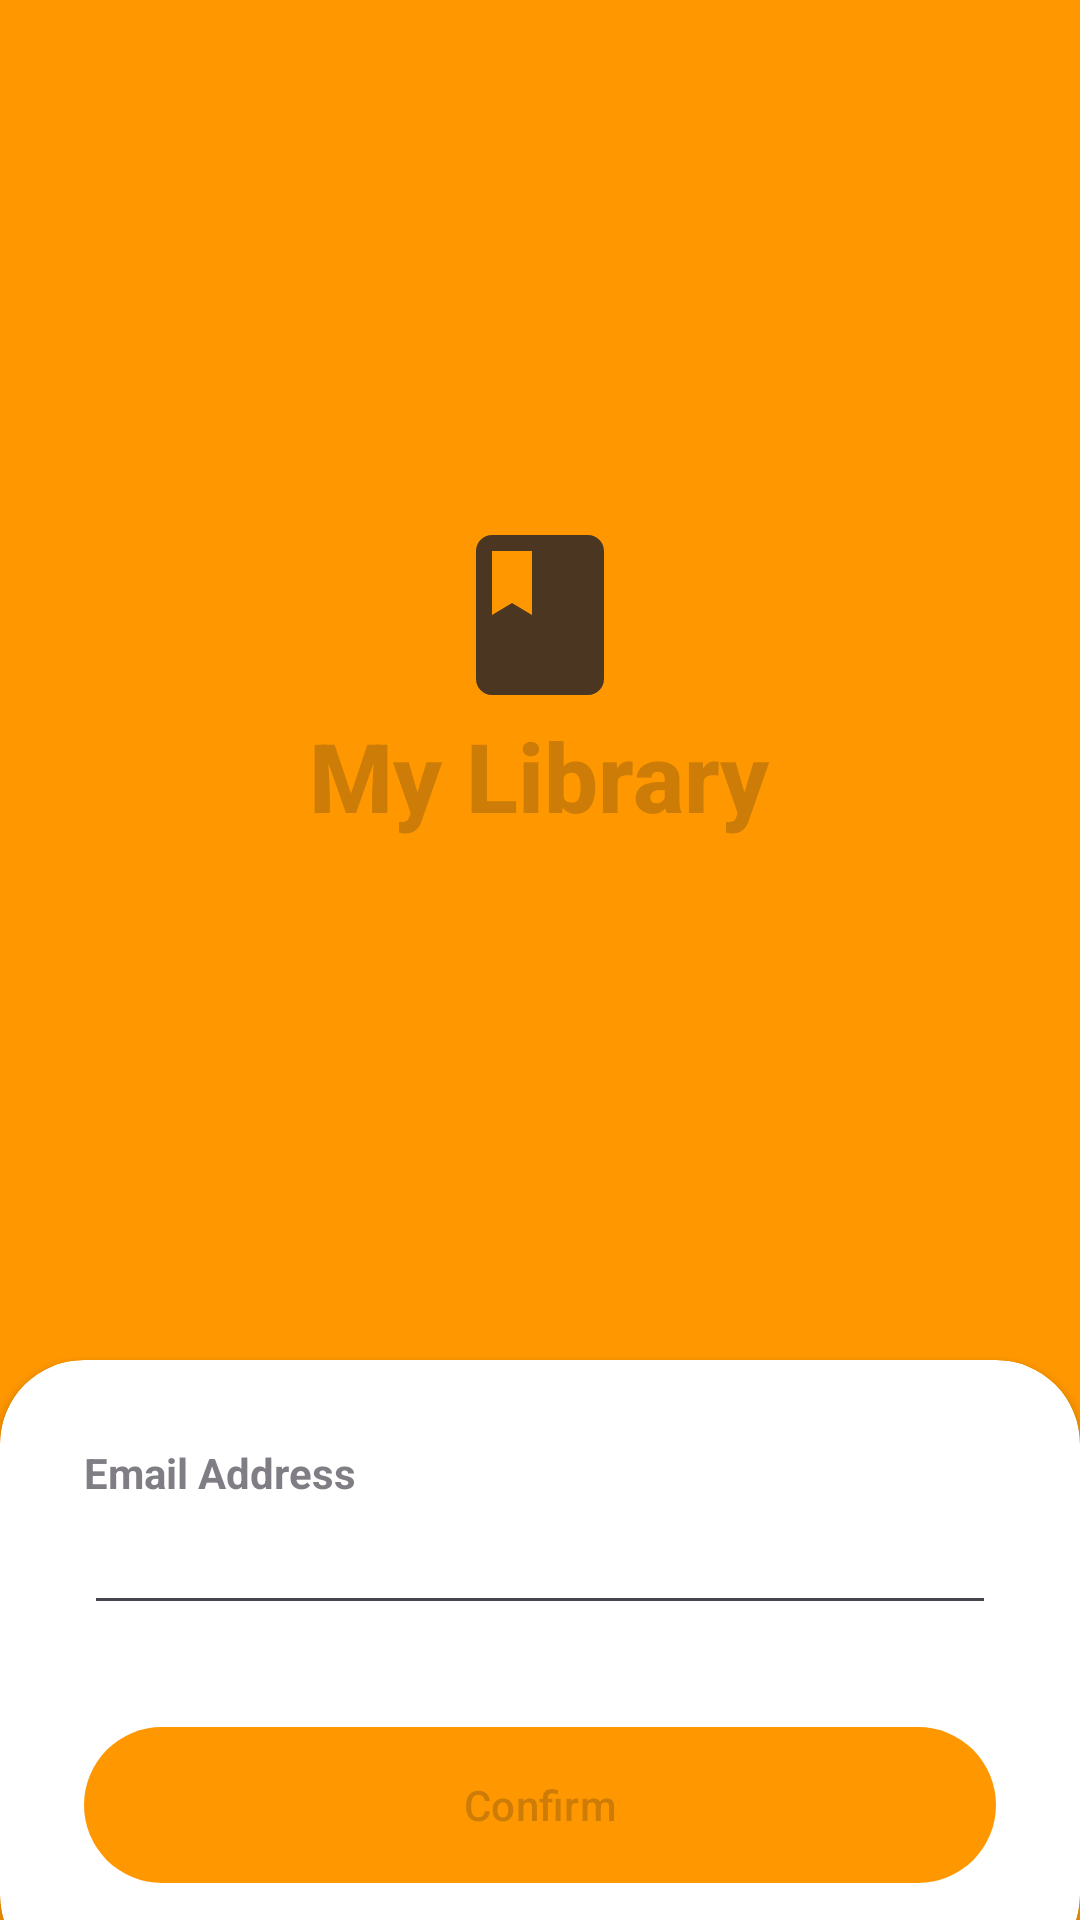

Named icons in this screenshot (1080x1920) and their bounding boxes, bbox=(x1, y1, x2, y2):
book: bbox=(476, 535, 604, 695)
